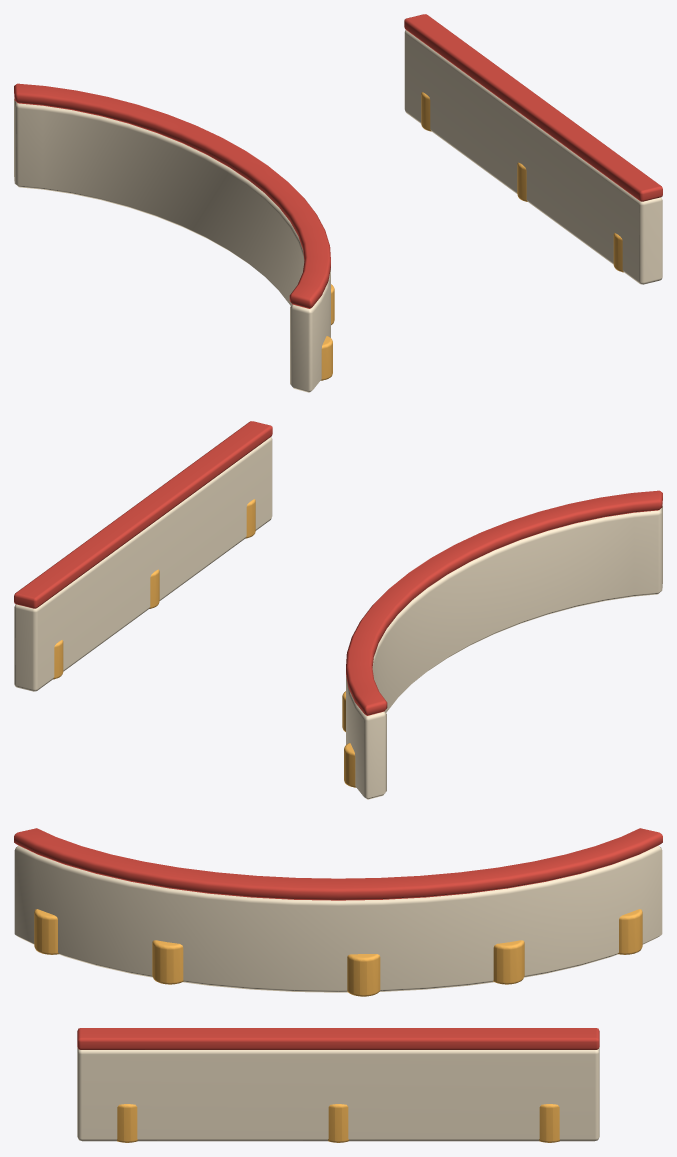
Rendered from A18_TrackGuards.fbx.
The picture shows the model from 3 angles, top to bottom: view 1: azimuth 30°, elevation 25°; view 2: azimuth 150°, elevation 25°; view 3: azimuth 270°, elevation 25°; orthographic projection. The views are drawn at different scales.
Parts seen in each view (by area): view 1: Cream curved guard, Cream straight guard, Tomato curved safety edge, Tomato straight safety edge; view 2: Cream curved guard, Cream straight guard, Tomato curved safety edge, Tomato straight safety edge; view 3: Cream curved guard, Cream straight guard, Tomato curved safety edge, Tomato straight safety edge, Mount stud 2, Mount stud 1, Mount stud 3, Mount stud 4, Mount stud 0, Mount stud 0.001, Mount stud -0.093, Mount stud 0.093.
Part boxes in pixels (x1,y1,x2,y2): Cream curved guard: [14, 98, 330, 392]; Cream straight guard: [404, 30, 662, 284]; Tomato curved safety edge: [14, 83, 330, 308]; Tomato straight safety edge: [404, 14, 662, 201]; Cream curved guard: [346, 505, 662, 799]; Cream straight guard: [14, 437, 272, 691]; Tomato curved safety edge: [346, 490, 662, 715]; Tomato straight safety edge: [14, 421, 272, 608]; Cream curved guard: [14, 845, 662, 992]; Cream straight guard: [77, 1047, 599, 1141]; Tomato curved safety edge: [14, 828, 662, 900]; Tomato straight safety edge: [77, 1028, 599, 1049]; Mount stud 2: [347, 954, 380, 996]; Mount stud 1: [152, 940, 183, 984]; Mount stud 3: [493, 940, 524, 984]; Mount stud 4: [617, 909, 642, 954]; Mount stud 0: [34, 909, 58, 954]; Mount stud 0.001: [328, 1104, 348, 1142]; Mount stud -0.093: [117, 1104, 137, 1142]; Mount stud 0.093: [539, 1104, 559, 1142].
Size of what is drawn, in the model's own units: 0.2202 by 0.0515 by 0.2859.
